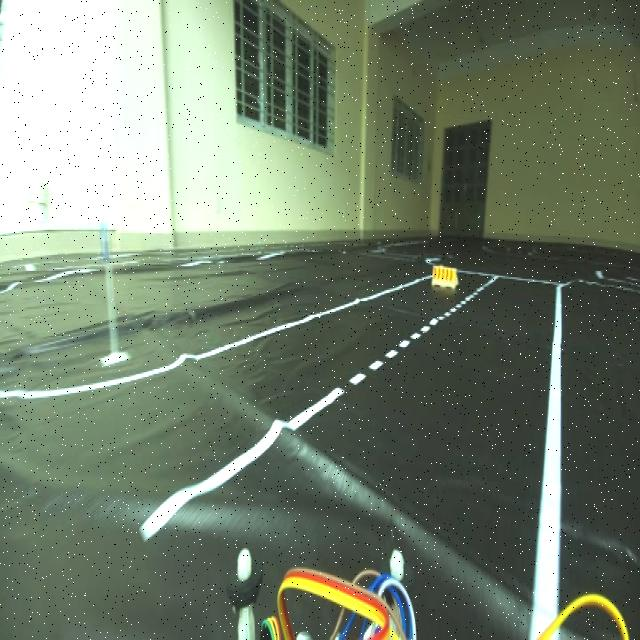onewayroad: (99, 220, 114, 270)
roadblock: (428, 257, 458, 291)
